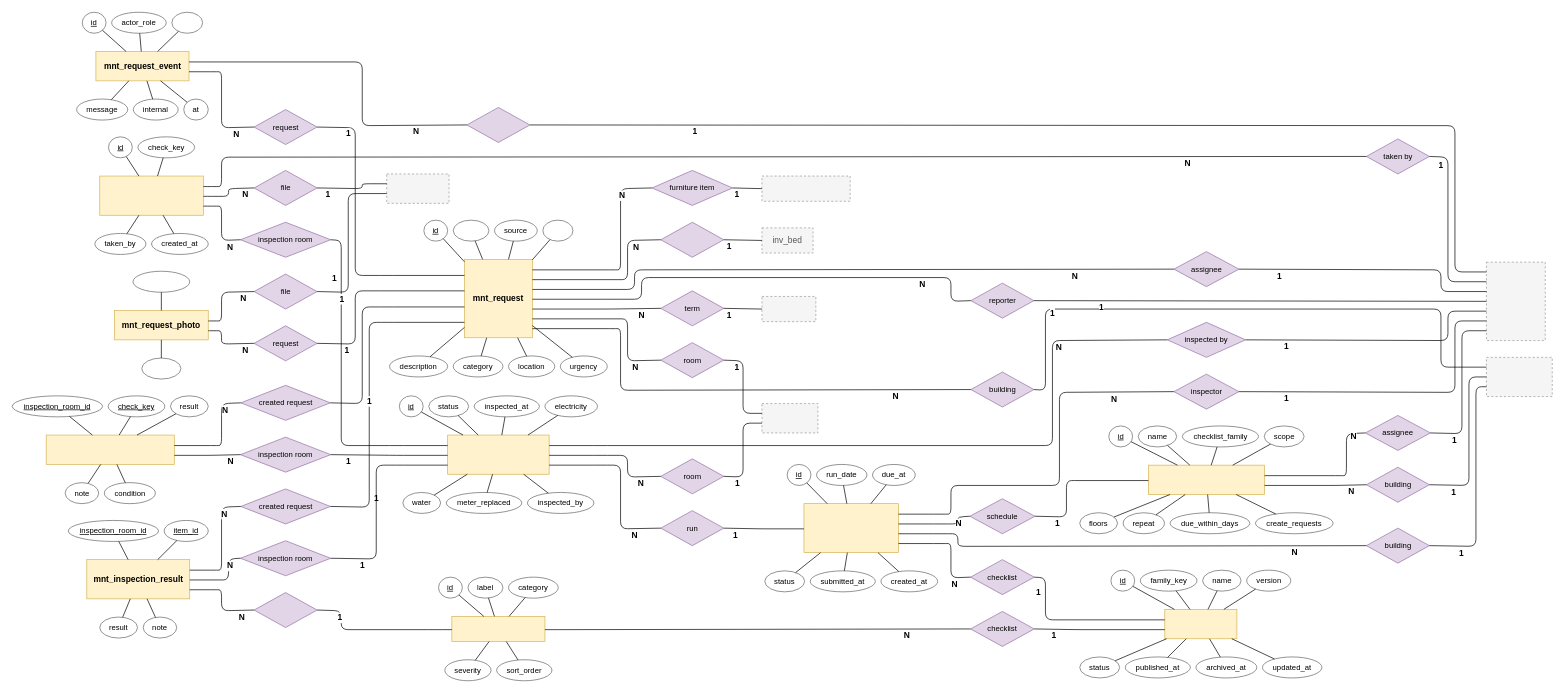
Image size: 1565x693. Some labels were removed from this diagram. The box of each missing label's shape, as (x1, y1, x2, y2) in pixels:
actor: (466, 107, 530, 142)
auth_user: (1486, 261, 1545, 341)
bed: (660, 222, 724, 257)
cfg_term: (761, 296, 816, 322)
code: (453, 219, 489, 241)
file_id: (141, 357, 181, 379)
inv_building: (1486, 357, 1552, 397)
inv_furniture_item: (761, 175, 850, 201)
inv_room: (761, 403, 818, 433)
item: (253, 592, 317, 628)
mnt_checklist: (1164, 609, 1237, 639)
mnt_checklist_item: (451, 616, 545, 642)
mnt_inspection_photo: (99, 175, 203, 215)
mnt_inspection_room: (447, 434, 549, 474)
mnt_inspection_room_check: (46, 434, 174, 464)
mnt_inspection_run: (803, 503, 898, 553)
mnt_inspection_schedule: (1148, 464, 1265, 495)
request_id: (132, 271, 190, 292)
shared_file: (386, 173, 449, 203)
text: (171, 12, 203, 33)
title: (542, 219, 573, 241)
